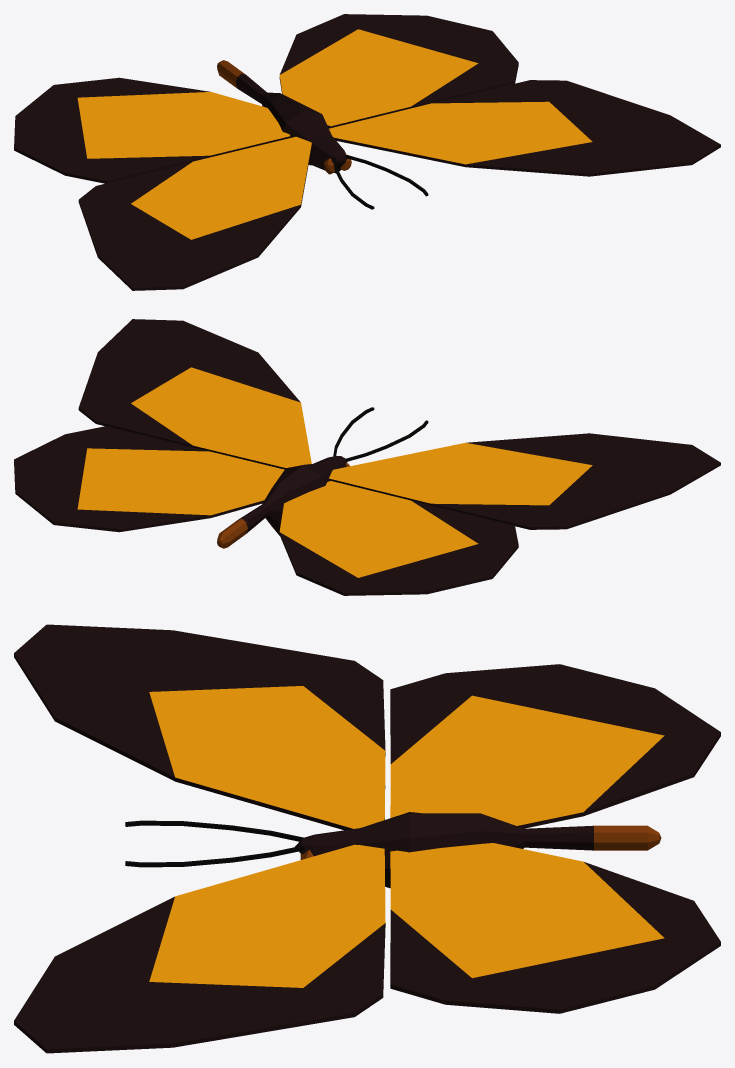
File: ea2ebf96-b003-475c-a15f-b5a08037ecda.glb
3 views of the same model, one above another, from view 1: azimuth 30°, elevation 25°; view 2: azimuth 150°, elevation 25°; view 3: azimuth 270°, elevation 25° (orthographic). The views are drawn at different scales.
Visible parts, largest first — view 1: Geo_Butterfly; view 2: Geo_Butterfly; view 3: Geo_Butterfly.
Boxes of the visible parts, left/top/right/bottom form: Geo_Butterfly: left=14, top=14, right=720, bottom=290; Geo_Butterfly: left=14, top=319, right=720, bottom=595; Geo_Butterfly: left=14, top=624, right=720, bottom=1053.
Size of the model in its own units: 93.61 by 8.2 by 65.83.
1 material, 1 textured.
